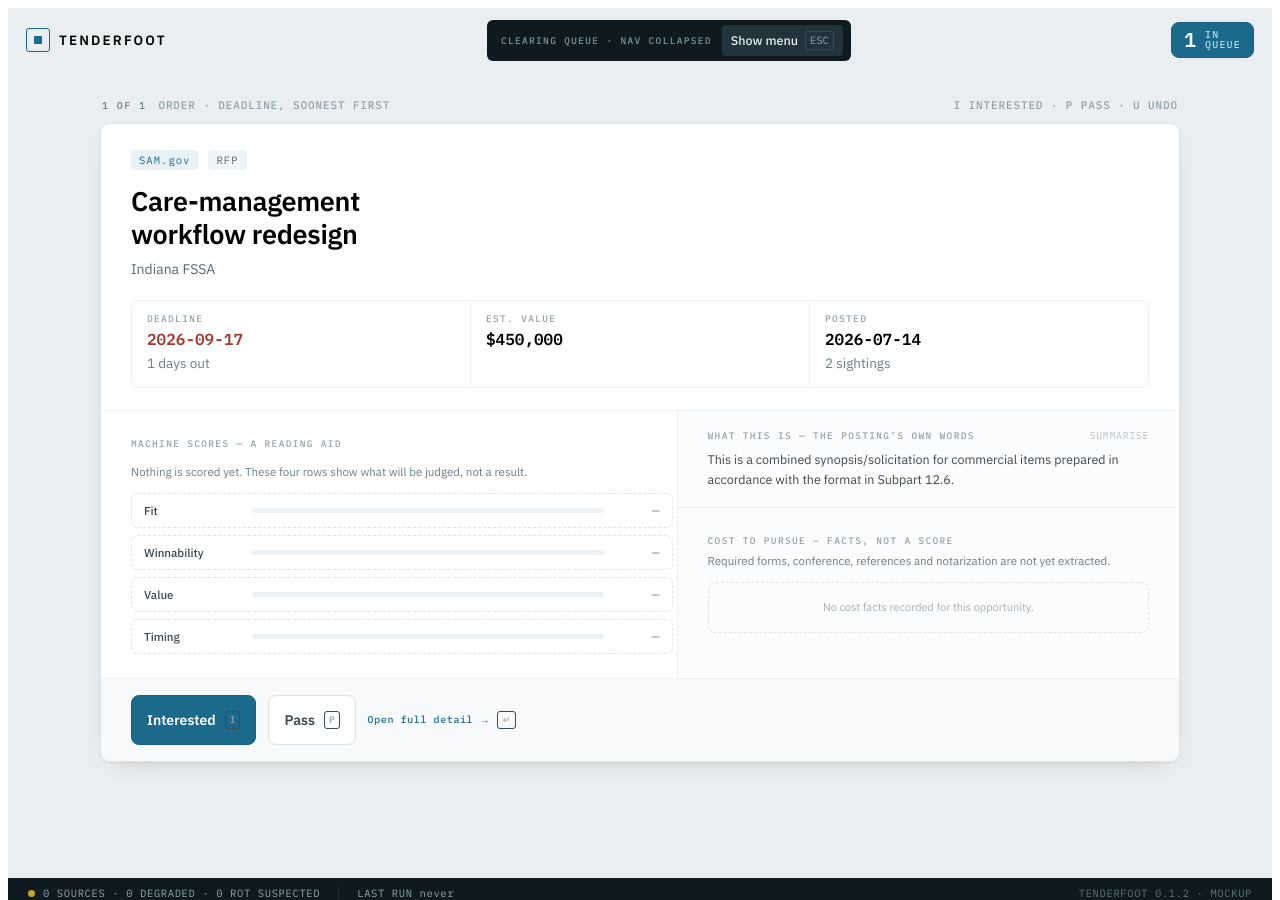
Test: the good-fit prompt reads as the pair of the rejection prompt, not as an optional note
Expected: the heading "Care-management workflow redesign" is shown, x1=131 y1=183 x2=360 y2=252
Click the button "Interested I".
click(194, 720)  # box x1=131 y1=695 x2=256 y2=744
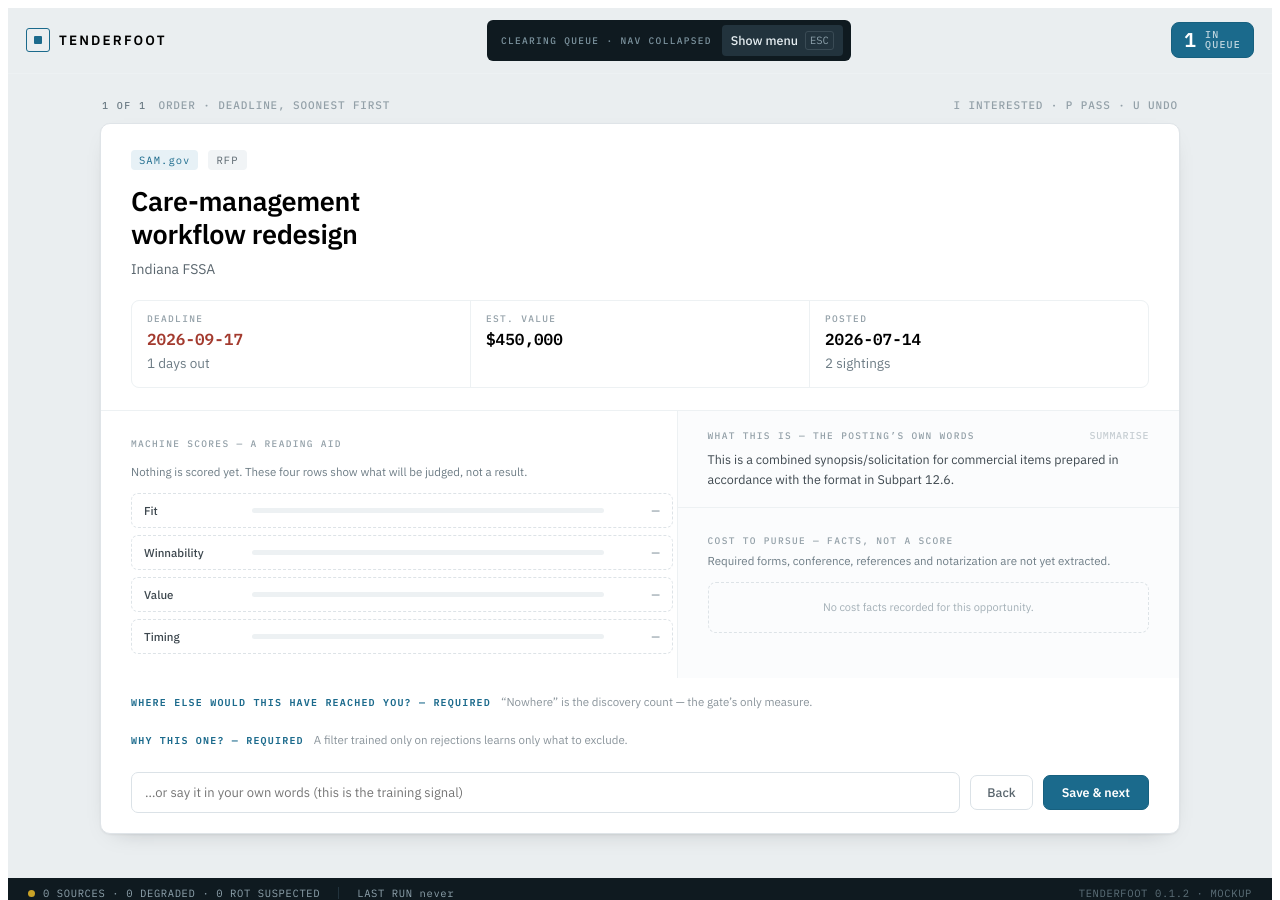
Now the text "WHY THIS ONE? — REQUIRED" is shown, box x1=131 y1=736 x2=304 y2=746
Now the text "A filter trained only on rejections learns only what to exclude." is shown, box x1=314 y1=734 x2=628 y2=746
Now the text "WHERE ELSE WOULD THIS HAVE REACHED YOU? — REQUIRED" is shown, box x1=131 y1=698 x2=491 y2=708
